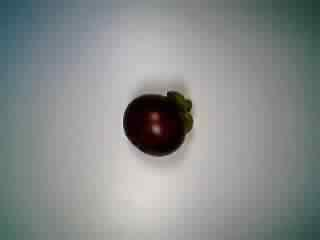mangosteen: (119, 81, 195, 160)
